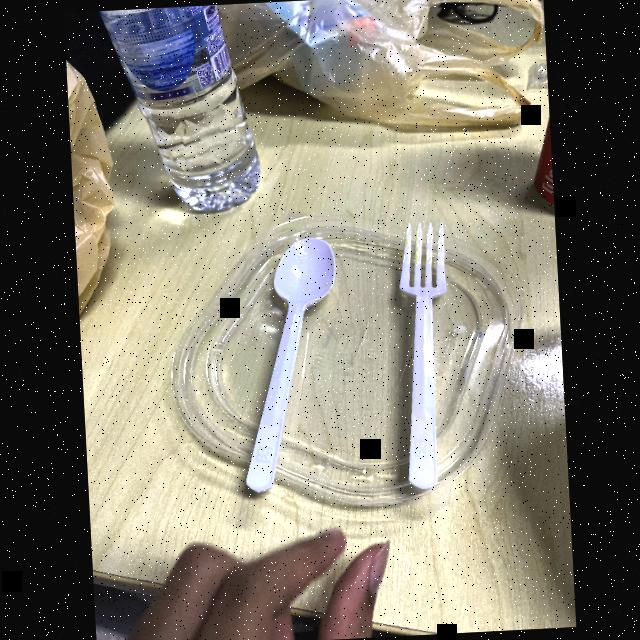plastic_cultery: (208, 231, 358, 514), (368, 210, 476, 501)
